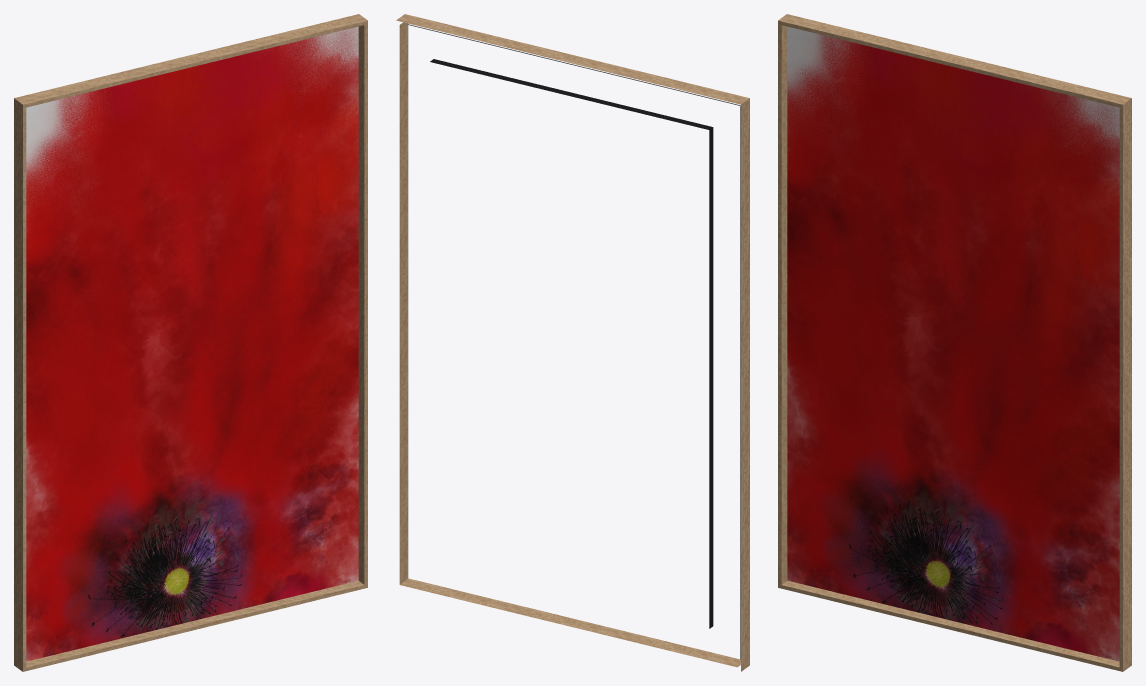
File: os030_grand_caisse-chene.glb
The picture shows the model from 3 angles, left to right: view 1: azimuth 30°, elevation 25°; view 2: azimuth 150°, elevation 25°; view 3: azimuth 330°, elevation 25°; orthographic projection.
Visible parts, largest first — view 1: os030_grand_caisse-chene; view 2: os030_grand_caisse-chene; view 3: os030_grand_caisse-chene.
Boxes of the visible parts, left/top/right/bottom form: os030_grand_caisse-chene: left=14, top=14, right=367, bottom=671; os030_grand_caisse-chene: left=396, top=14, right=749, bottom=671; os030_grand_caisse-chene: left=778, top=14, right=1131, bottom=671.
Size of the model in its own units: 0.7817 by 1.23 by 0.035.
4 materials, 2 textured.
